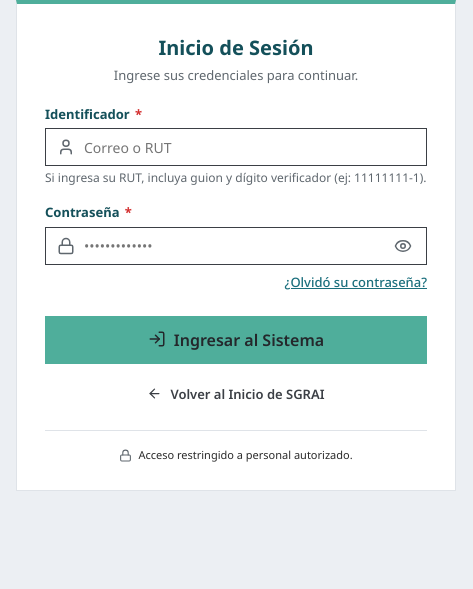
it: LoginForm › debe desplegar mensaje de error ante fallo de autenticación
This screenshot has width=473, height=589.
Type "admin@valdivia.cl" into the field labelled "Identificador *" at (236, 147), box [45,128,427,166]
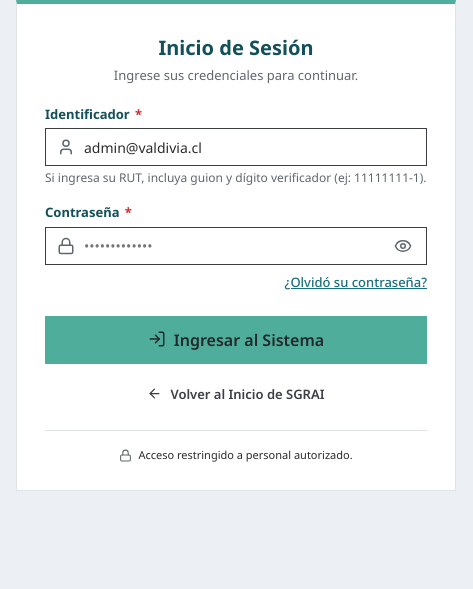
Type "err" into the password field labelled "Contraseña *" at (236, 246), box [45,227,427,265]
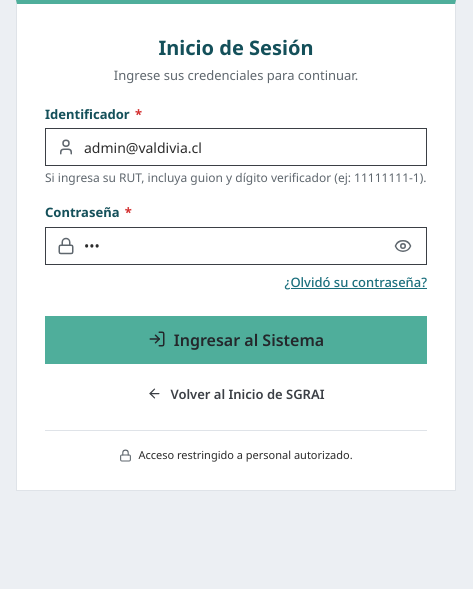
Click the button "Ingresar al Sistema" at (236, 340), box [45,316,427,364]
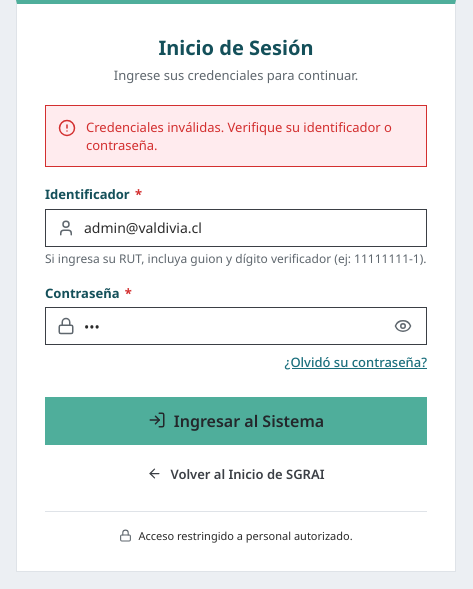
Now the message with test id "error-servidor" shows "Credenciales inválidas", box [86,118,392,154]
